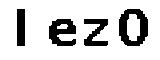0: (116, 5, 151, 50)
e: (44, 18, 78, 48)
l: (12, 5, 31, 52)
z: (80, 16, 109, 48)
